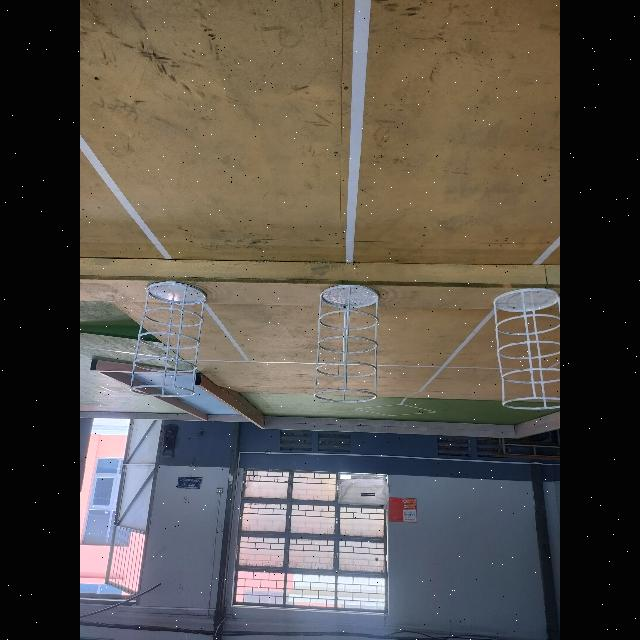S: (128, 279, 209, 400), (489, 284, 560, 412), (314, 282, 381, 405)
